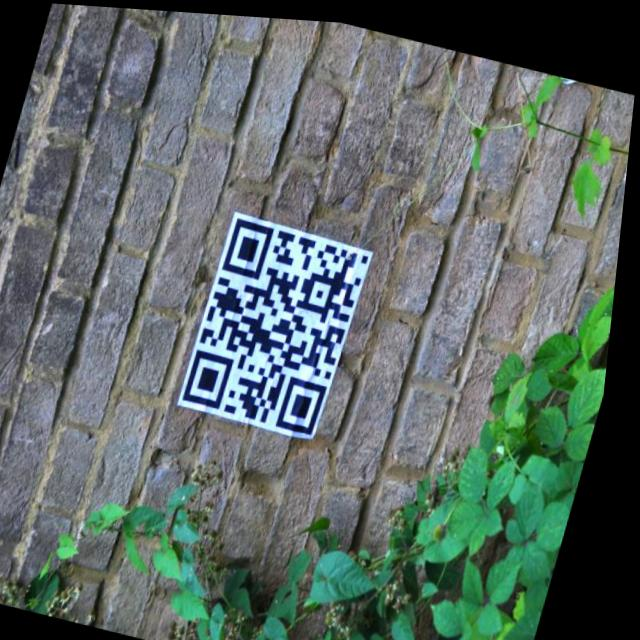qrcode: (188, 211, 378, 434)
